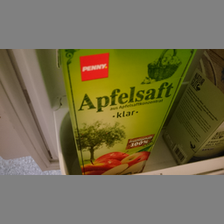juice: (56, 50, 195, 175)
